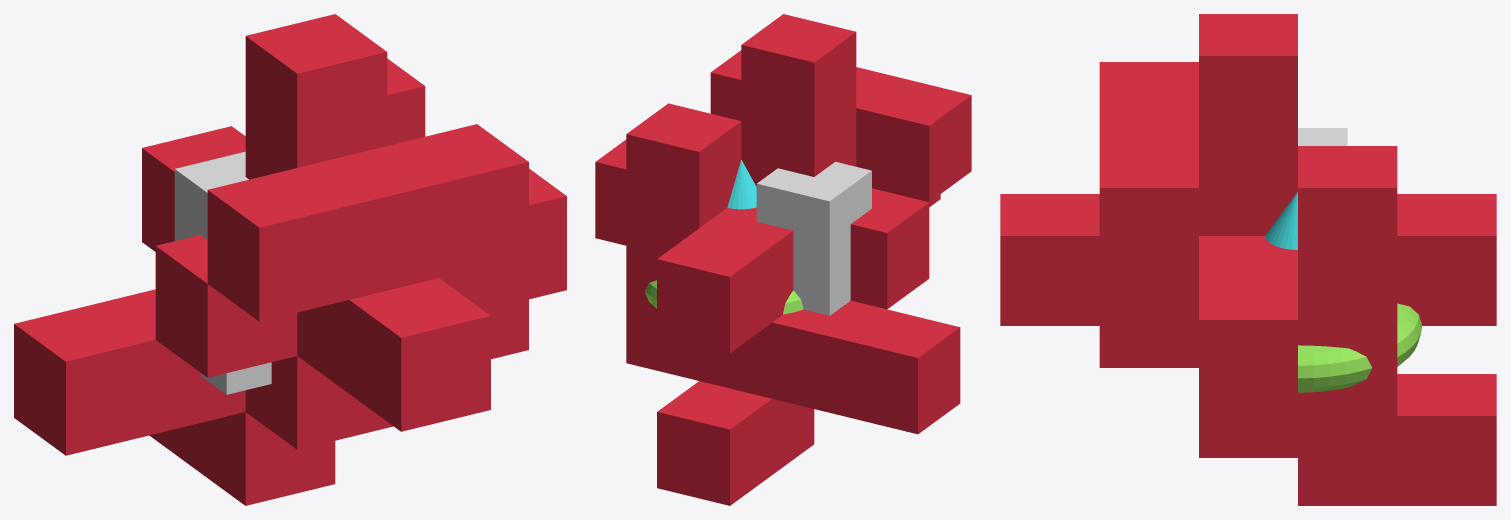
3 renders of one model, left to right at view 1: azimuth 30°, elevation 25°; view 2: azimuth 150°, elevation 25°; view 3: azimuth 270°, elevation 25°, orthographic. The views are drawn at different scales.
Visible parts, largest first — view 1: Random, Cube; view 2: Random, Cube, Cone, Torus; view 3: Random, Torus, Cone, Cube.
Boxes of the visible parts, box(x1,y1,x2,y2) form: Random: box(14, 14, 566, 505); Cube: box(174, 151, 271, 394); Random: box(595, 14, 971, 505); Cube: box(756, 162, 871, 315); Cone: box(727, 160, 756, 209); Torus: box(644, 280, 803, 314); Random: box(1000, 14, 1496, 505); Torus: box(1298, 303, 1422, 392); Cone: box(1265, 191, 1297, 249); Cube: box(1298, 128, 1347, 145).
Bounding box in the file's own units: 500 × 500 × 500.
